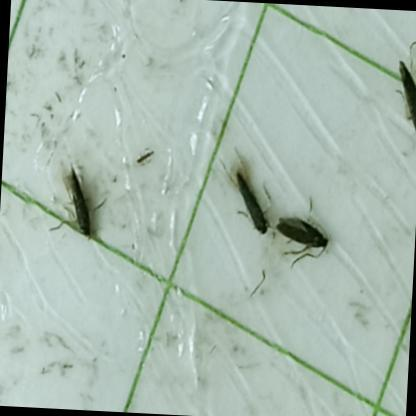prays_oleae: (53, 135, 116, 259), (220, 152, 276, 254), (274, 197, 346, 274), (379, 47, 416, 150)
